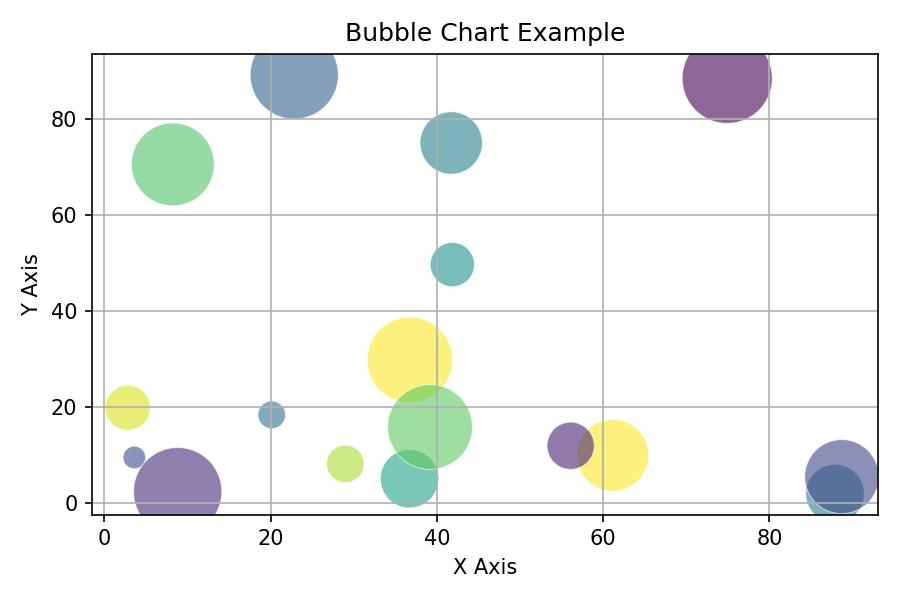axis: (71, 506, 886, 548), (55, 43, 102, 548)
circle: (131, 123, 217, 209), (366, 317, 455, 396), (389, 387, 475, 468), (682, 51, 773, 123), (134, 448, 224, 515), (250, 54, 339, 119), (804, 438, 878, 510), (579, 420, 649, 489), (421, 108, 484, 177), (379, 450, 439, 506), (545, 420, 597, 471), (429, 240, 477, 288), (106, 385, 155, 431), (324, 444, 368, 484), (258, 400, 289, 430), (123, 444, 148, 469)
